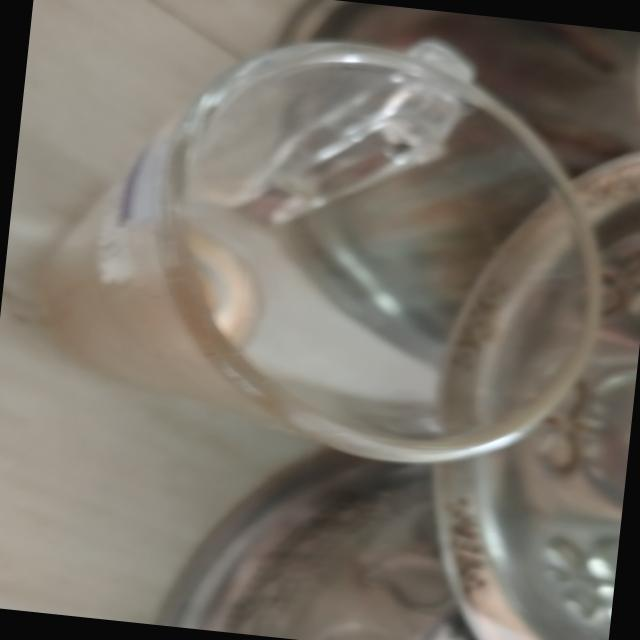glass-VX4N: (41, 0, 638, 479)
